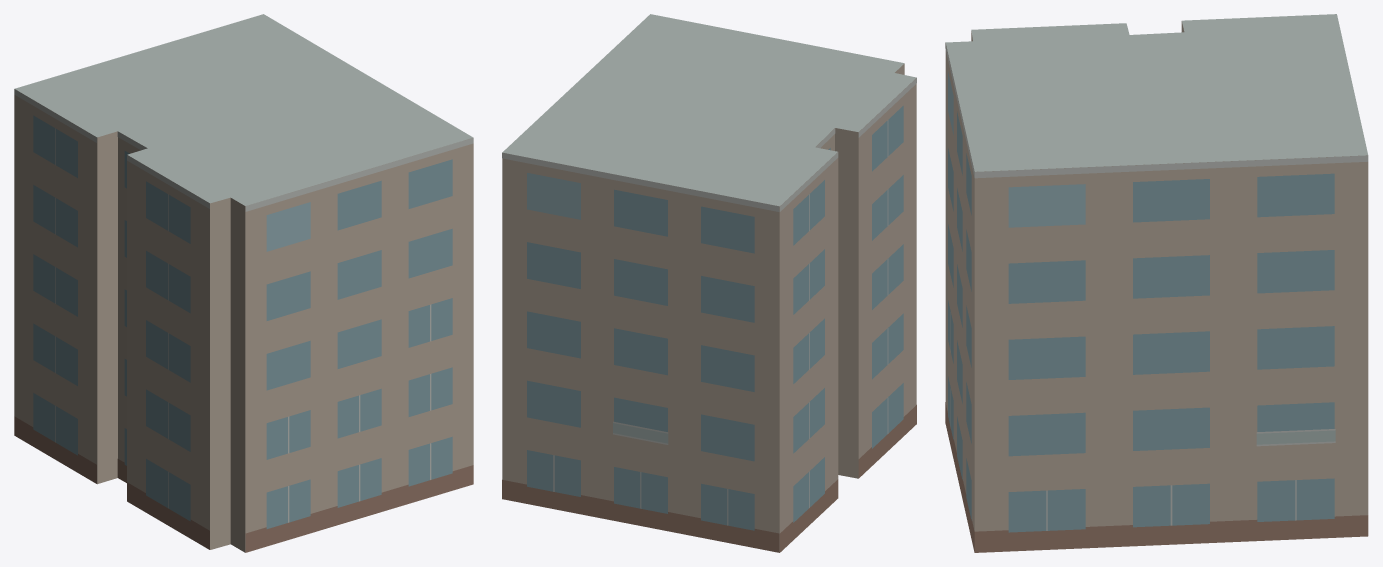
File: survey-upis-32653061.glb
3 renders of one model, left to right at view 1: azimuth 30°, elevation 25°; view 2: azimuth 150°, elevation 25°; view 3: azimuth 270°, elevation 25°, orthographic. The views are drawn at different scales.
Parts seen in each view (by area): view 1: survey-upis-32653061.tmp; view 2: survey-upis-32653061.tmp; view 3: survey-upis-32653061.tmp.
Part boxes in pixels (x1=…): survey-upis-32653061.tmp: x1=14, y1=14, x2=473, y2=552; survey-upis-32653061.tmp: x1=502, y1=14, x2=916, y2=552; survey-upis-32653061.tmp: x1=945, y1=14, x2=1368, y2=552.
Size of the model in its own units: 12.87 by 14.48 by 14.56.
